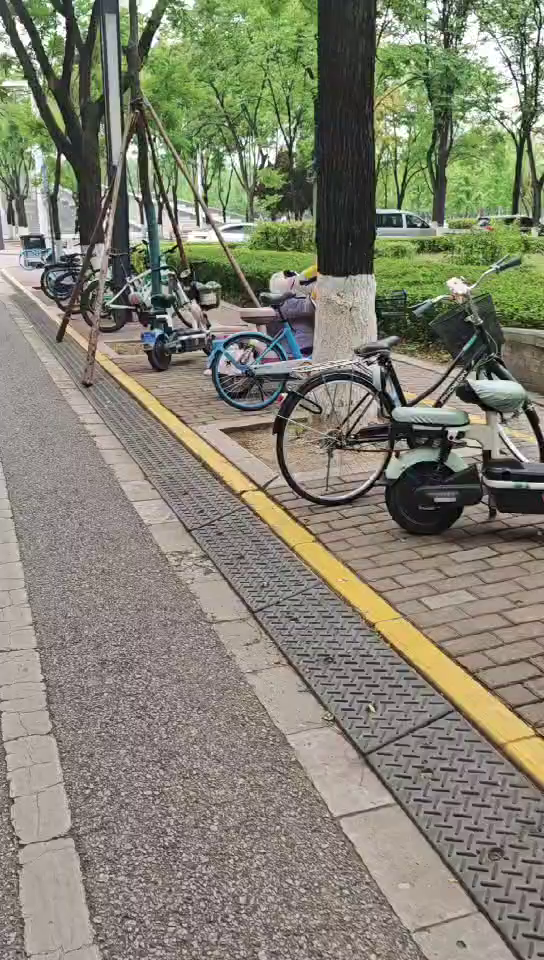others: (277, 270, 528, 493), (389, 302, 544, 559), (83, 242, 196, 337), (137, 253, 214, 374)
shared_bike_haluo: (209, 263, 353, 412)
